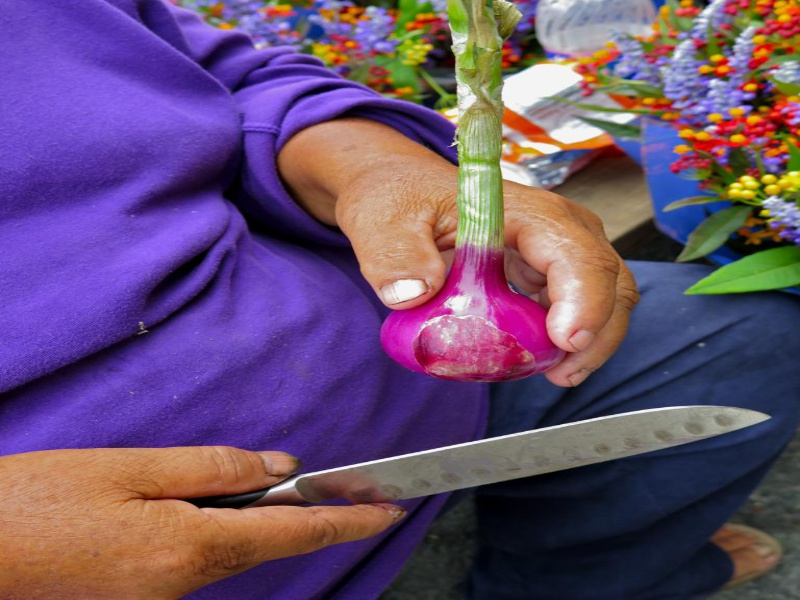knife: (247, 398, 778, 519)
